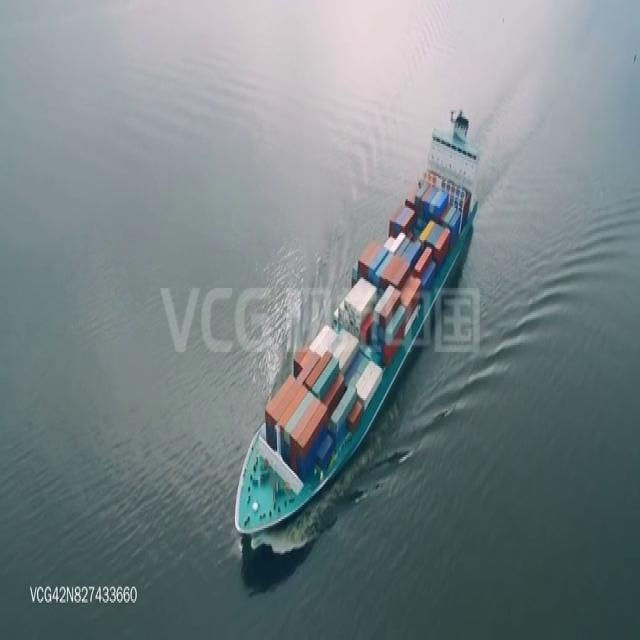cargoship: (235, 102, 481, 550)
